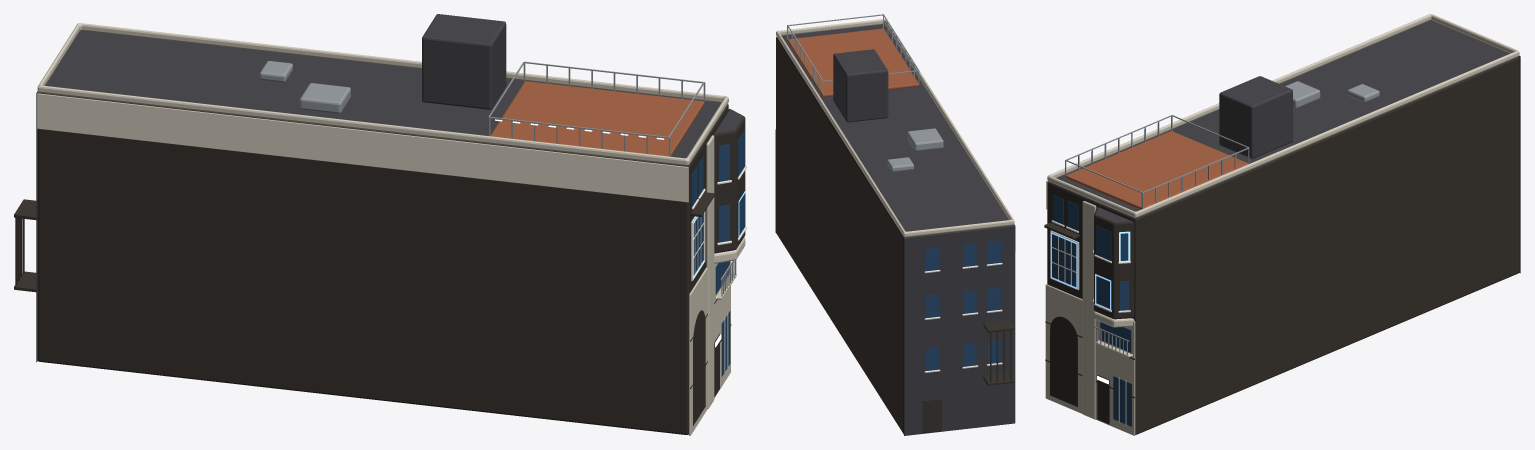
The model's file is 76-south-park.glb.
3 renders of one model, left to right at view 1: azimuth 30°, elevation 25°; view 2: azimuth 150°, elevation 25°; view 3: azimuth 270°, elevation 25°, orthographic. The views are drawn at different scales.
Parts seen in each view (by area): view 1: body, flank_sw_band, parapet, roof_deck, roof_penthouse, bay, stone_base, stone_pier, arch_recess, roof_mech_0, roof_rail; view 2: body, rear_face, roof_deck, roof_penthouse, parapet, roof_mech_0, rear_door, roof_rail, roof_mech_1, rear_0_1_fill, rear_1_1_fill, rear_2_1_fill (+8 smaller); view 3: body, roof_deck, parapet, roof_penthouse, stone_base, stone_pier, bay, arch_recess, grid_fill, shopfront, roof_rail, band_window (+3 smaller).
Boxes of the visible parts, x1,y1,x2,y2 form: body: (37,30,728,434); flank_sw_band: (37,93,688,202); parapet: (37,23,728,165); roof_deck: (490,81,704,156); roof_penthouse: (422,14,506,109); bay: (713,109,745,253); stone_base: (689,261,730,435); stone_pier: (706,135,714,408); arch_recess: (693,310,705,425); roof_mech_0: (299,83,350,113); roof_rail: (488,61,704,138); body: (776,24,1013,434); rear_face: (904,225,1015,435); roof_deck: (787,28,918,96); roof_penthouse: (833,49,888,122); parapet: (776,18,1014,237); roof_mech_0: (907,128,943,151); rear_door: (922,398,941,433); roof_rail: (787,14,918,81); roof_mech_1: (887,157,913,171); rear_0_1_fill: (963,343,976,366); rear_1_1_fill: (963,290,976,313); rear_2_1_fill: (963,243,976,266); body: (1047,20,1519,434); roof_deck: (1065,131,1248,209); parapet: (1047,14,1519,217); roof_penthouse: (1219,76,1292,158); stone_base: (1045,284,1135,435); stone_pier: (1082,201,1096,419); bay: (1094,207,1134,319); arch_recess: (1050,316,1077,406); grid_fill: (1052,234,1076,286); shopfront: (1113,376,1131,426); roof_rail: (1066,115,1248,193); band_window: (1100,322,1131,352).
Bounding box in the file's own units: 26.61 × 16.28 × 26.02.
